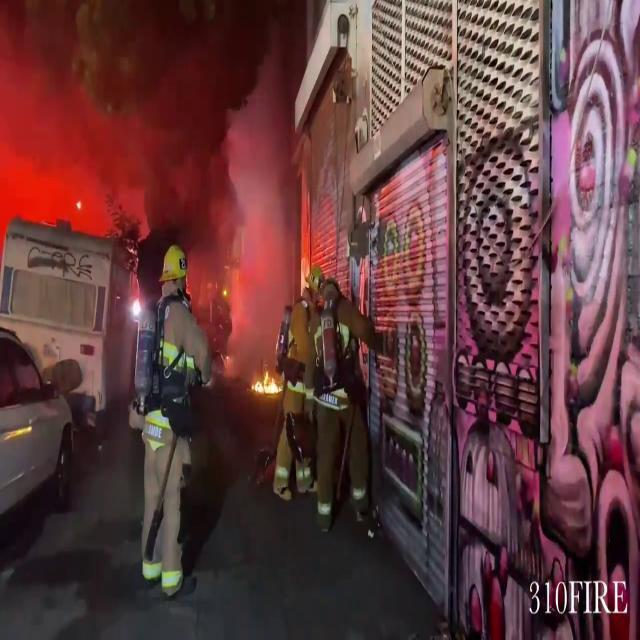Fire: (250, 362, 285, 403)
Smoke: (224, 28, 310, 360)
